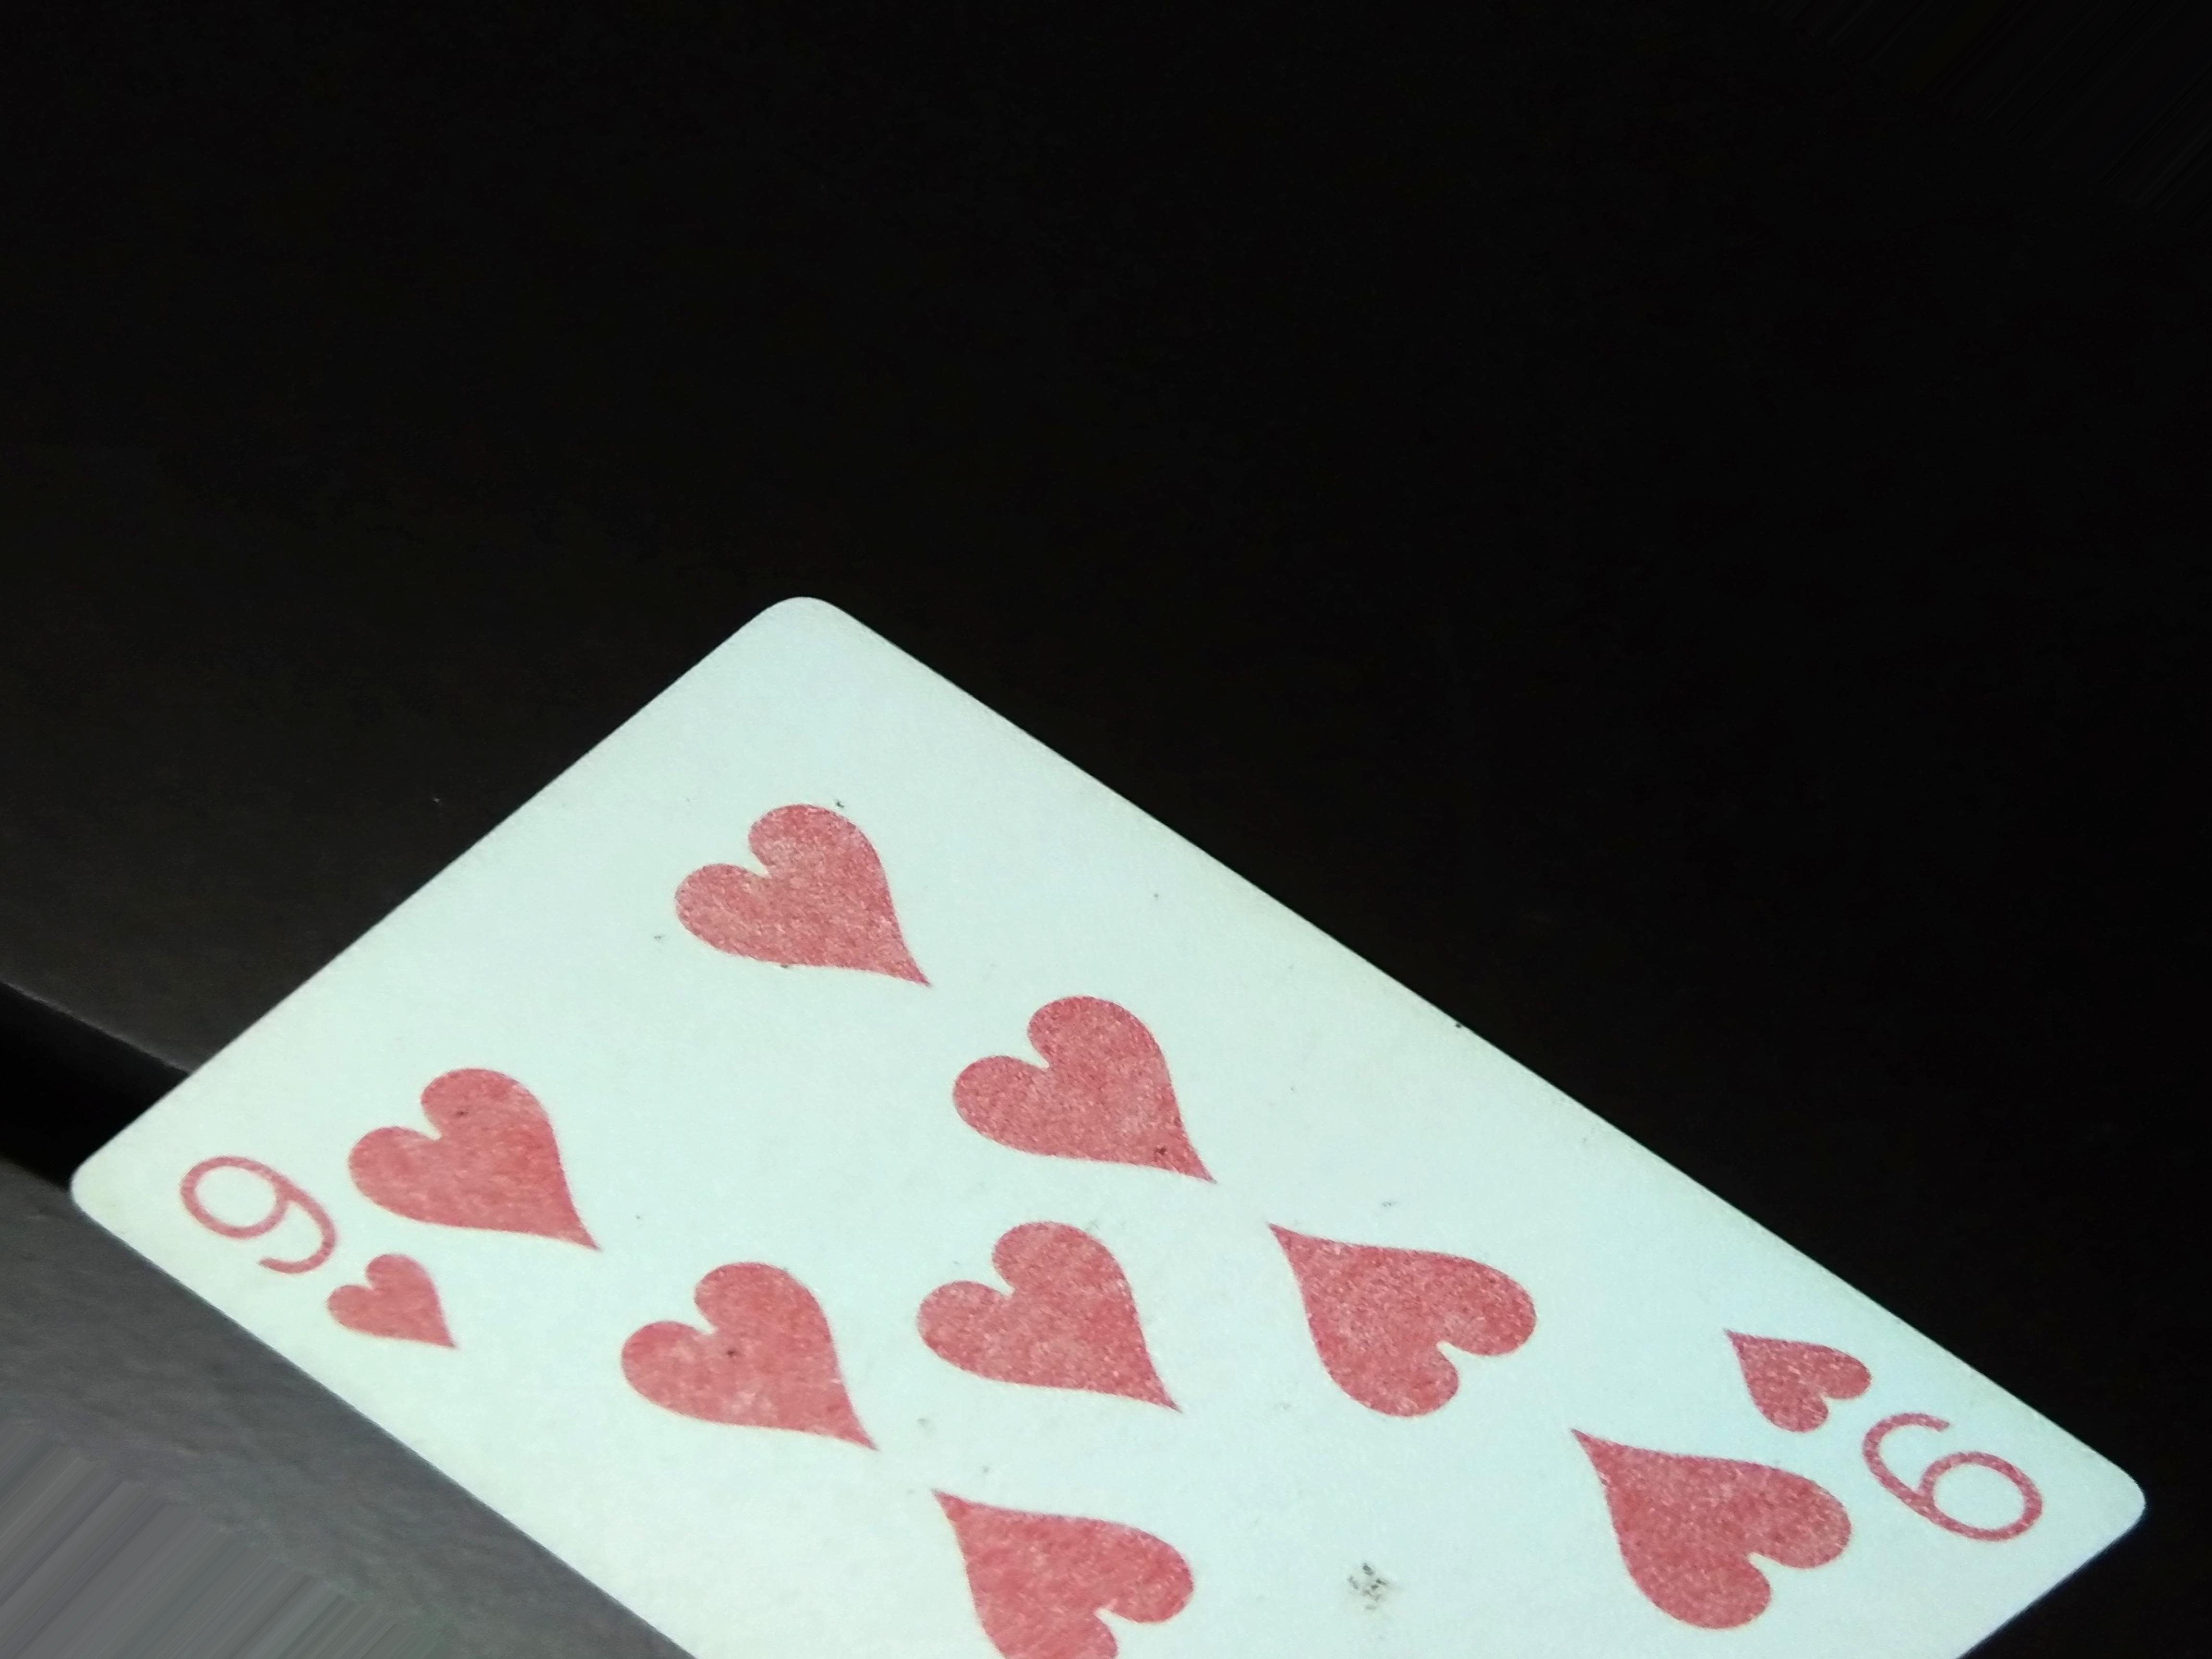9H: (155, 1141, 470, 1364)
